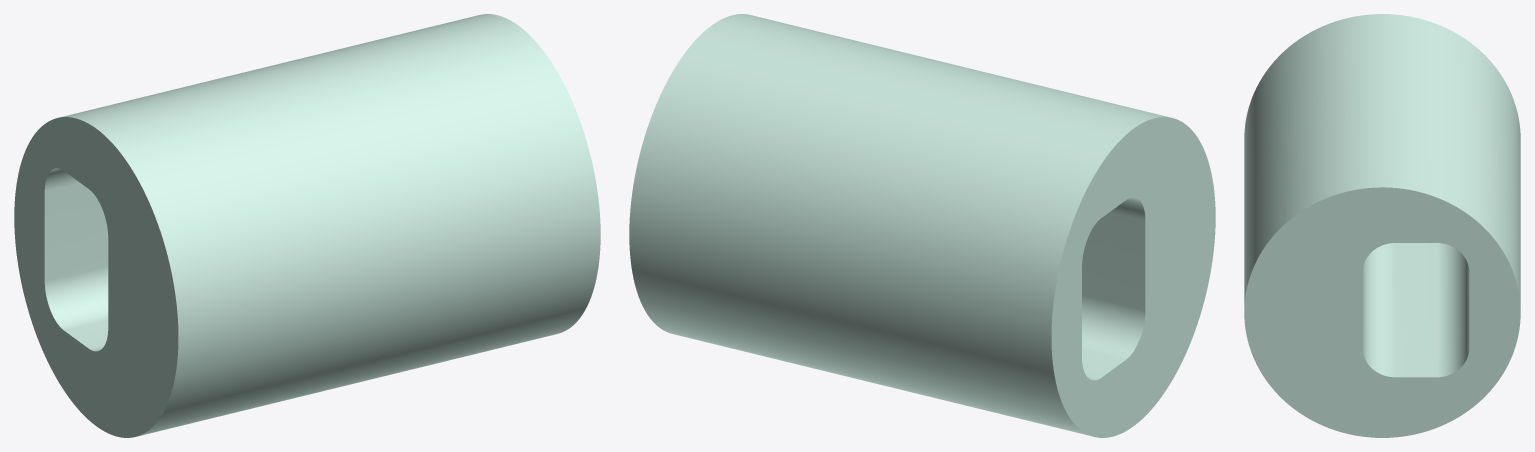
The picture shows the model from 3 angles, left to right: view 1: azimuth 30°, elevation 25°; view 2: azimuth 150°, elevation 25°; view 3: azimuth 270°, elevation 25°; orthographic projection. The views are drawn at different scales.
Visible parts, largest first — view 1: Renderer Node; view 2: Renderer Node; view 3: Renderer Node.
Part boxes in pixels (x1,y1,x2,y2): Renderer Node: (14, 14, 600, 437); Renderer Node: (629, 14, 1215, 437); Renderer Node: (1244, 14, 1520, 437).
Size of the model in its own units: 0.75 by 0.5053 by 0.5051.
